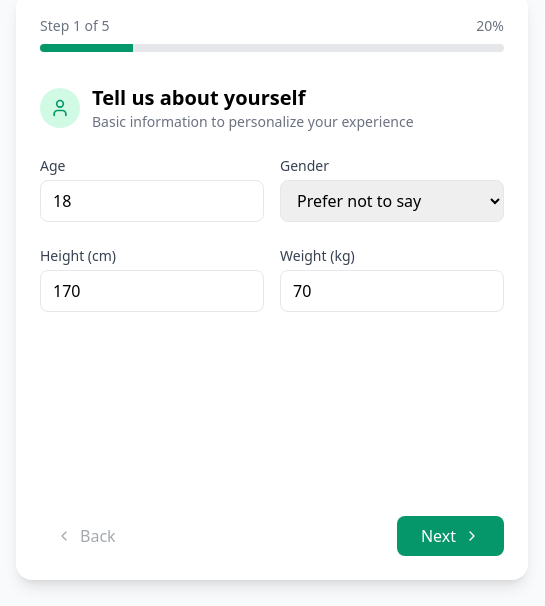
Test: Onboarding Component › should navigate to step 2 when Next is clicked
Click the button "Next".
click(450, 536)  # box left=397, top=516, right=504, bottom=556
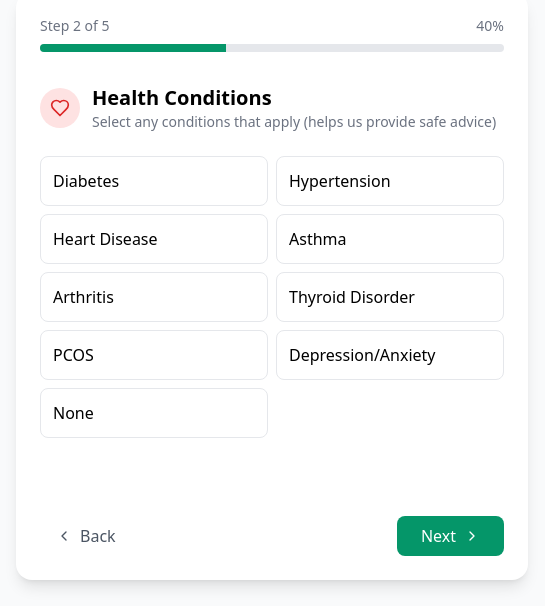
Expected: the heading "Health Conditions" is shown, left=92, top=84, right=272, bottom=111
Expected: the text "Step 2 of 5" is shown, left=40, top=16, right=110, bottom=36
